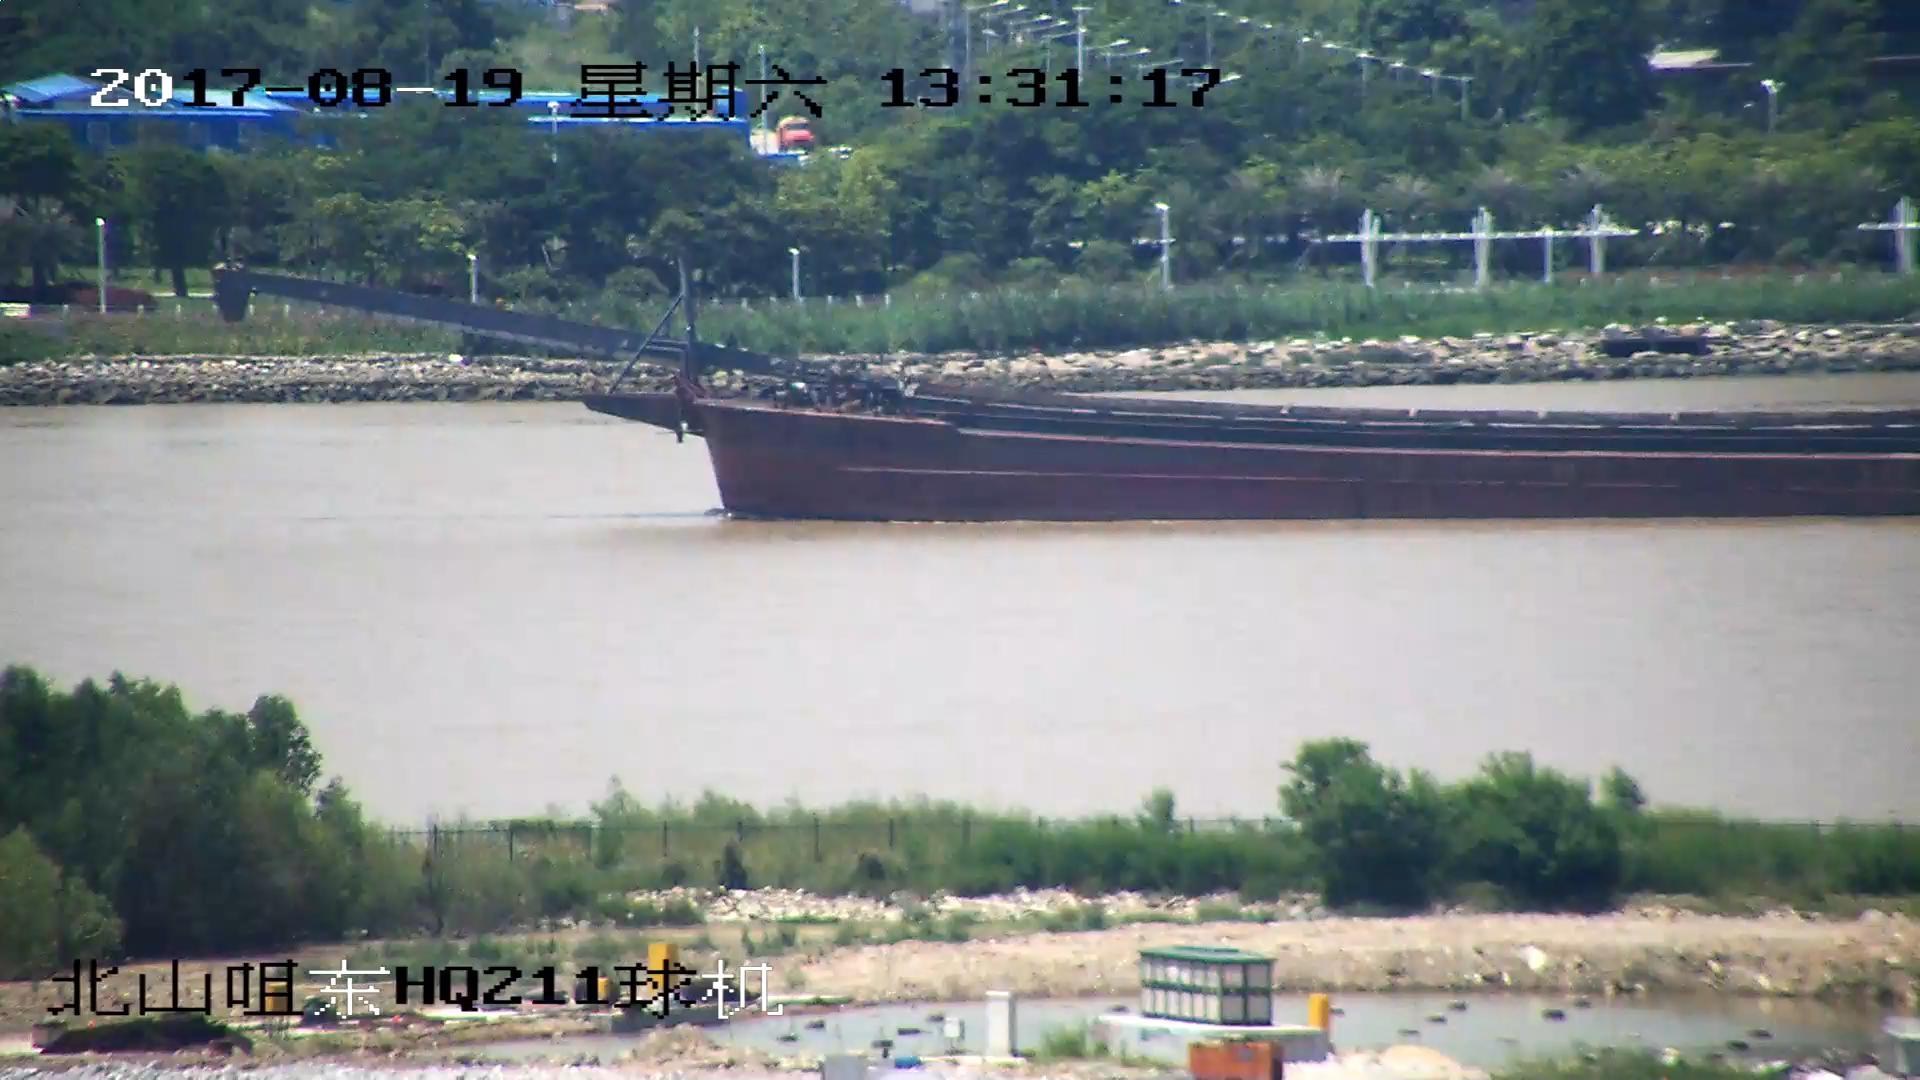Ship: (219, 268, 1920, 524)
